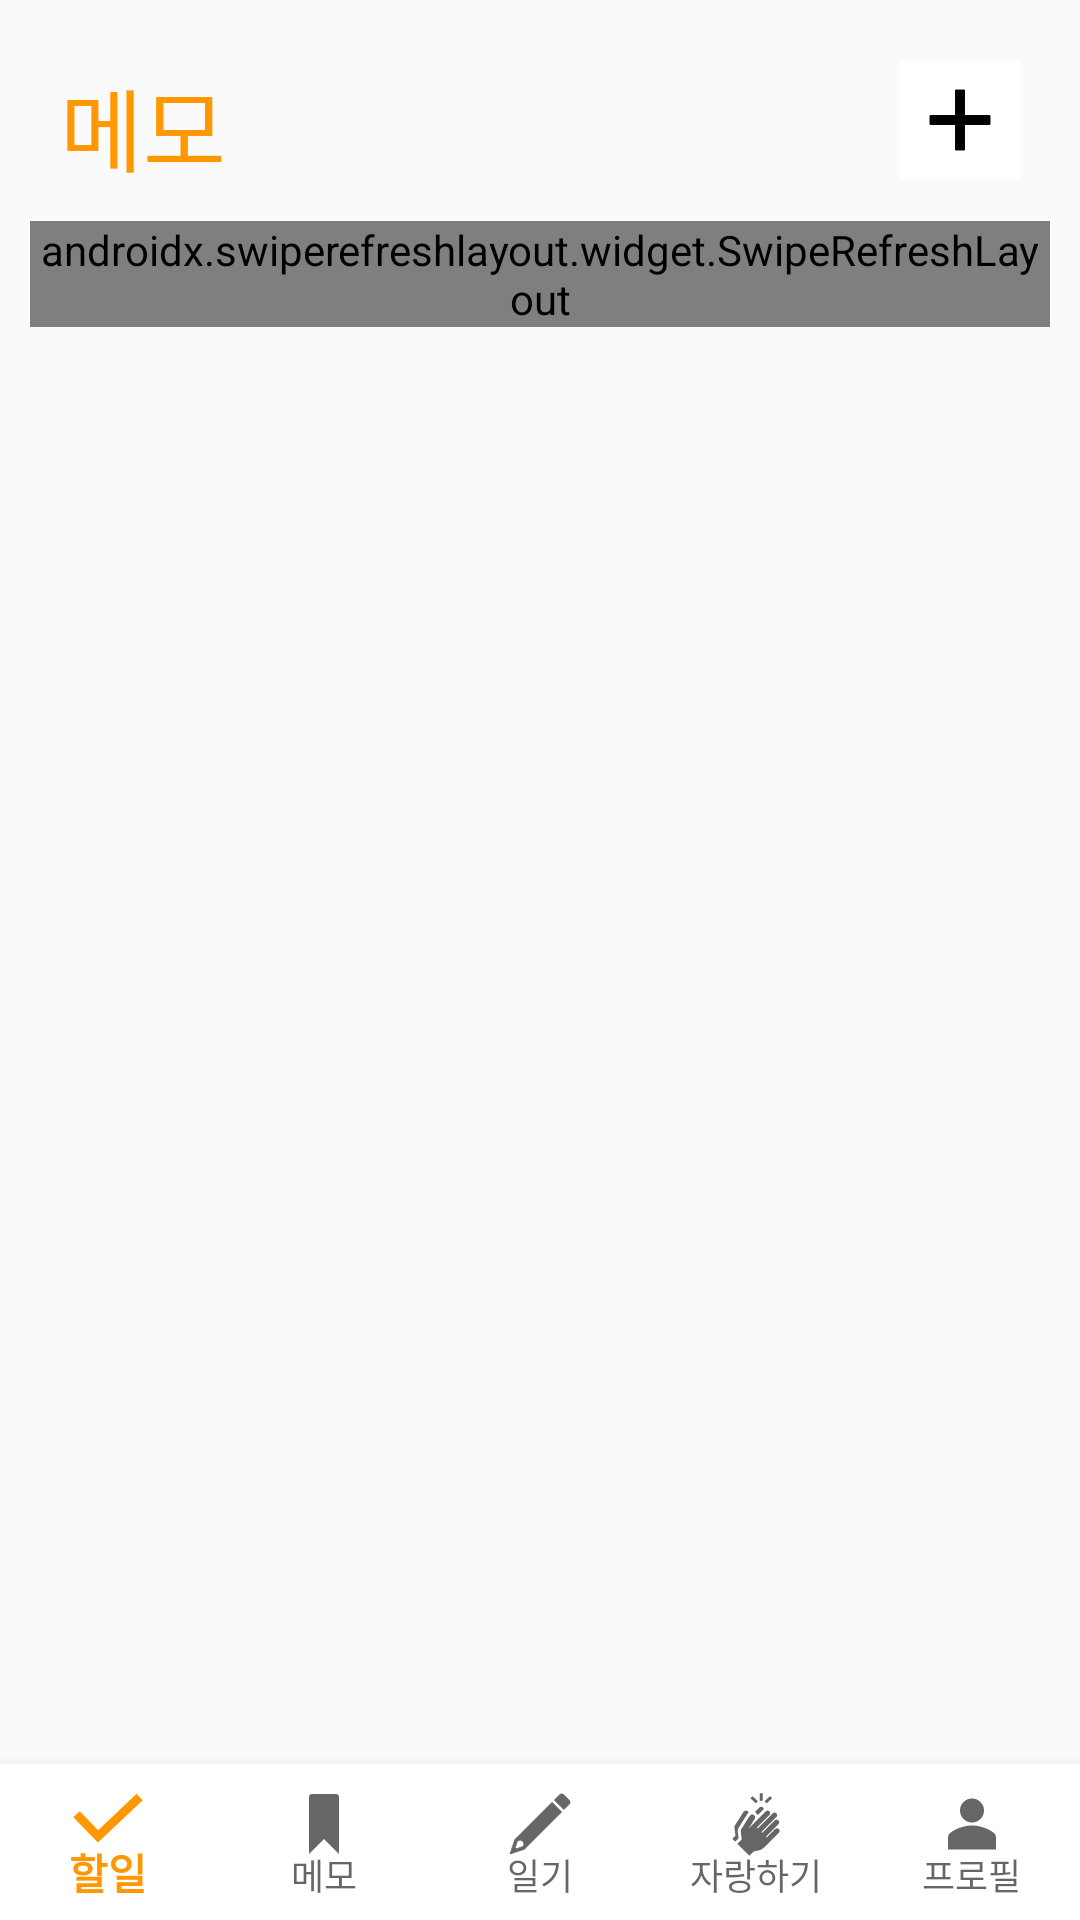

Locate icon controls on the screen. Image size 1080 x 1920, boxes as (x1, y1, x2, y2).
plus: (929, 89, 991, 151)
